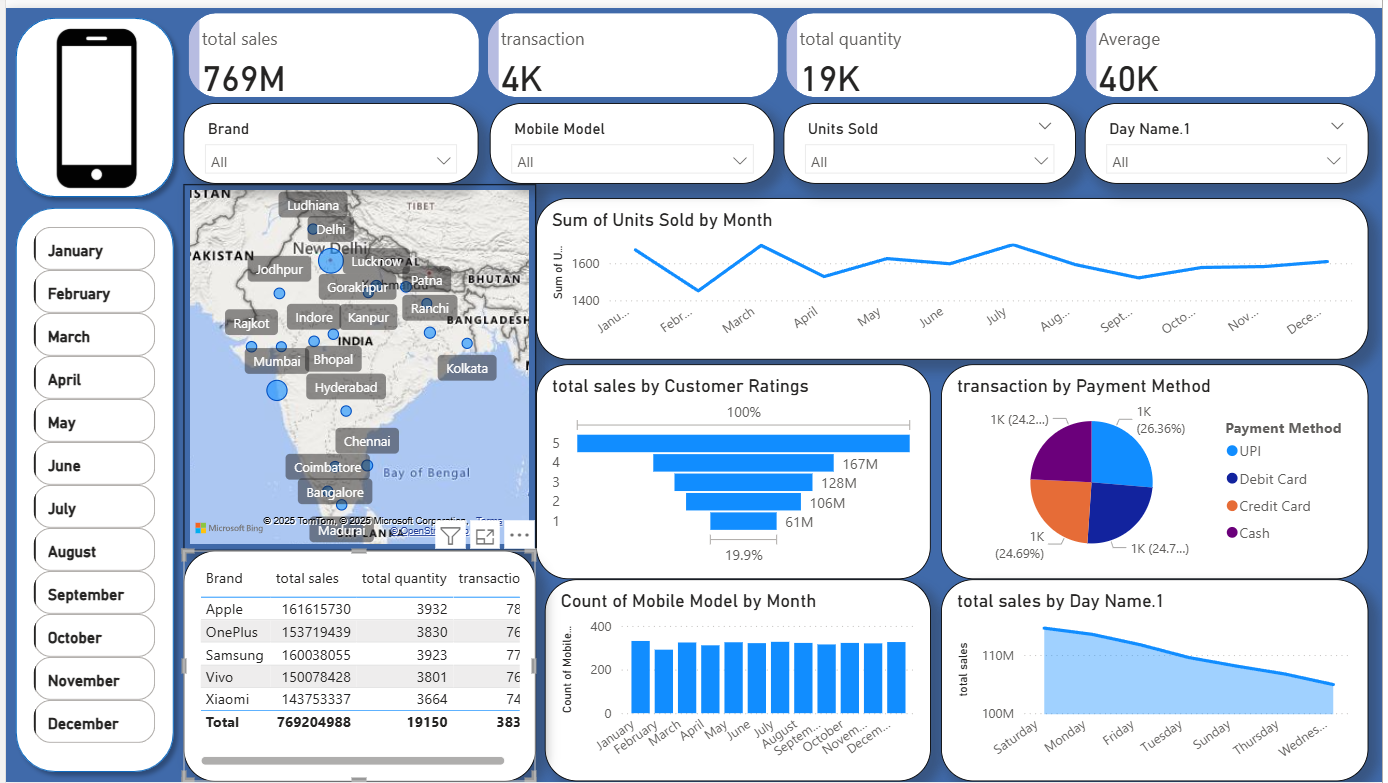

What the dashboard file says about the page in this screenshot:
{"tool":"powerbi","page":{"name":"Page 1","canvas":[1280,720],"ordinal":0},"visuals":[{"type":"shape","box":[0,0,165.1,184.9],"z":0},{"type":"shape","box":[0,176.7,165.1,543],"z":1000},{"type":"advancedSlicerVisual","fields":{"Values":["Sheet1.Sales date.Variation.Date Hierarchy.Month"]},"box":[20.9,198.8,123.3,500],"z":2000},{"type":"cardVisual","fields":{"Data":["Sheet1.total sales","Sheet1.transaction","Sheet1.total quantity","Sheet1.Average"]},"box":[165.1,0,1115.1,88.4],"z":3000},{"type":"map","fields":{"Category":["Sheet1.City"],"Size":["Sum(Sheet1.Units Sold)"]},"box":[165.1,164,327.9,340.7],"z":4000},{"type":"lineChart","fields":{"Y":["Sum(Sheet1.Units Sold)"],"Category":["Sheet1.Sales date.Variation.Date Hierarchy.Month"]},"box":[493,176.7,774.4,150],"z":5000},{"type":"columnChart","fields":{"Category":["Sheet1.Sales date.Variation.Date Hierarchy.Month"],"Y":["CountNonNull(Sheet1.Mobile Model)"]},"box":[501.2,531.4,359.3,188.4],"z":6000},{"type":"pieChart","fields":{"Y":["Sheet1.transaction"],"Category":["Sheet1.Payment Method"]},"box":[869.8,331.4,397.7,200],"z":7000},{"type":"funnel","fields":{"Category":["Sheet1.Customer Ratings"],"Y":["Sheet1.total sales"]},"box":[493,331.4,367.4,200],"z":8000},{"type":"areaChart","fields":{"Y":["Sheet1.total sales"],"Category":["Sheet1.Day Name.1"]},"box":[869.8,531.4,397.7,188.4],"z":9000},{"type":"tableEx","fields":{"Values":["Sheet1.Brand","Sheet1.total sales","Sheet1.total quantity","Sheet1.transaction"]},"box":[165.1,504.7,327.9,215.1],"z":10000},{"type":"slicer","fields":{"Values":["Sheet1.Brand"]},"box":[165.1,88.4,274.4,75.6],"z":11000},{"type":"slicer","fields":{"Values":["Sheet1.Mobile Model"]},"box":[450,88.4,265.1,75.6],"z":12000},{"type":"slicer","fields":{"Values":["Sheet1.Units Sold"]},"box":[723.3,88.4,272.1,75.6],"z":13000},{"type":"slicer","fields":{"Values":["Sheet1.Day Name.1"]},"box":[1003.5,88.4,264,75.6],"z":14000},{"type":"image","box":[0,9.3,167.4,167.4],"z":15000}]}

Visuals, with their boxes in screenshot pixels (x1, y1, x2, y2), scaled from the page's 1280x720 canvas onto the 1388x783 screenshot:
shape: 0/0/179/201
shape: 0/192/179/782
advancedSlicerVisual - Sheet1.Sales date.Variation.Date Hierarchy.Month: 23/216/156/760
cardVisual - Sheet1.total sales x Sheet1.transaction: 179/0/1387/96
map - Sheet1.City x Sum(Sheet1.Units Sold): 179/178/535/549
lineChart - Sum(Sheet1.Units Sold) x Sheet1.Sales date.Variation.Date Hierarchy.Month: 535/192/1374/355
columnChart - Sheet1.Sales date.Variation.Date Hierarchy.Month x CountNonNull(Sheet1.Mobile Model): 543/578/933/782
pieChart - Sheet1.transaction x Sheet1.Payment Method: 943/360/1374/578
funnel - Sheet1.Customer Ratings x Sheet1.total sales: 535/360/933/578
areaChart - Sheet1.total sales x Sheet1.Day Name.1: 943/578/1374/782
tableEx - Sheet1.Brand x Sheet1.total sales: 179/549/535/782
slicer - Sheet1.Brand: 179/96/477/178
slicer - Sheet1.Mobile Model: 488/96/775/178
slicer - Sheet1.Units Sold: 784/96/1079/178
slicer - Sheet1.Day Name.1: 1088/96/1374/178
image: 0/10/182/192
